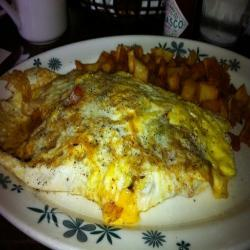omelette: (7, 78, 241, 220)
